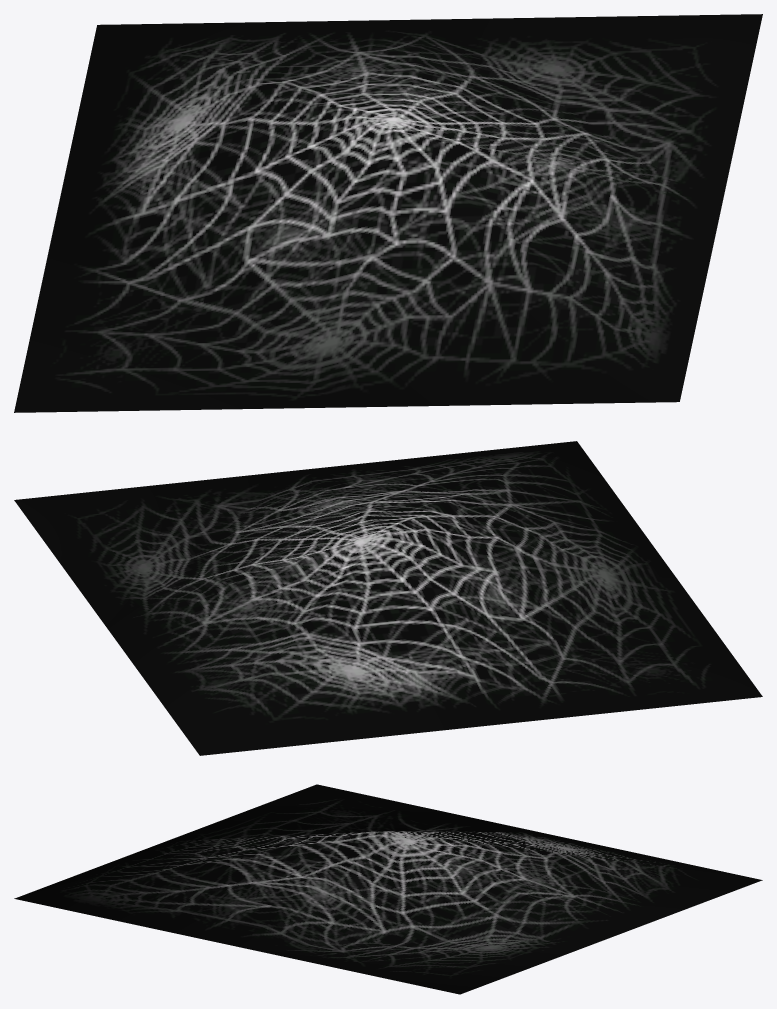
The model's file is MIRKWOOD_PLANE32.fbx.
3 views of the same model, one above another, from view 1: azimuth 30°, elevation 25°; view 2: azimuth 150°, elevation 25°; view 3: azimuth 270°, elevation 25° (orthographic). The views are drawn at different scales.
Parts seen in each view (by area): view 1: MIRKWOOD_PLANE32; view 2: MIRKWOOD_PLANE32; view 3: MIRKWOOD_PLANE32.
Boxes of the visible parts, x1,y1,x2,y2 form: MIRKWOOD_PLANE32: [14, 14, 762, 412]; MIRKWOOD_PLANE32: [14, 441, 762, 755]; MIRKWOOD_PLANE32: [14, 784, 762, 994].
Size of the model in its own units: 269182 by 42991 by 291089.
1 material, 1 textured.
